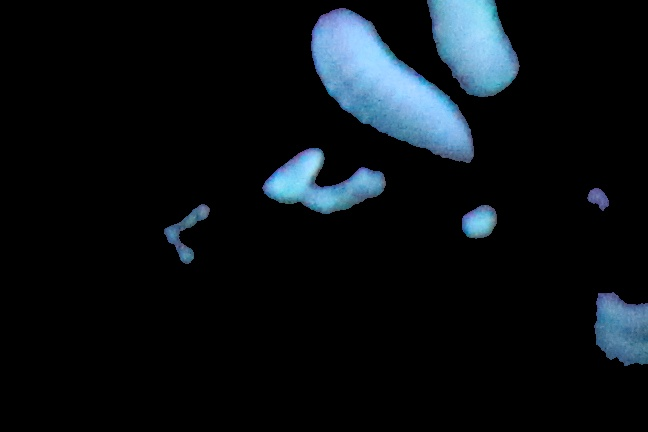larvae: (318, 12, 474, 159), (417, 1, 531, 109)
